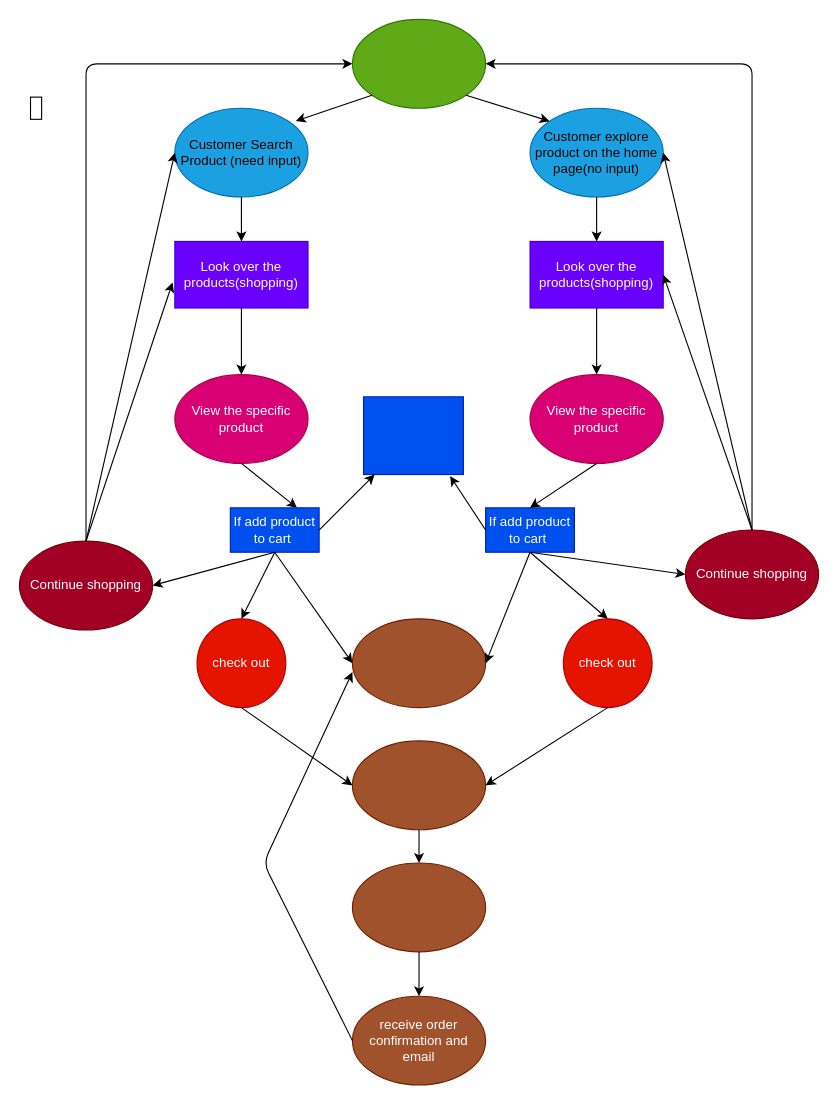
This 838x1104 diagram has some shape labels left out. Each missing label, with the box of its shape:
Leave website: (351, 618, 486, 708)
Receive confirmation of adding product to the cart: (362, 396, 463, 475)
user has to input their payment information: (351, 862, 486, 952)
View Cart: (351, 740, 486, 830)
Website Home Page: (351, 18, 486, 108)
